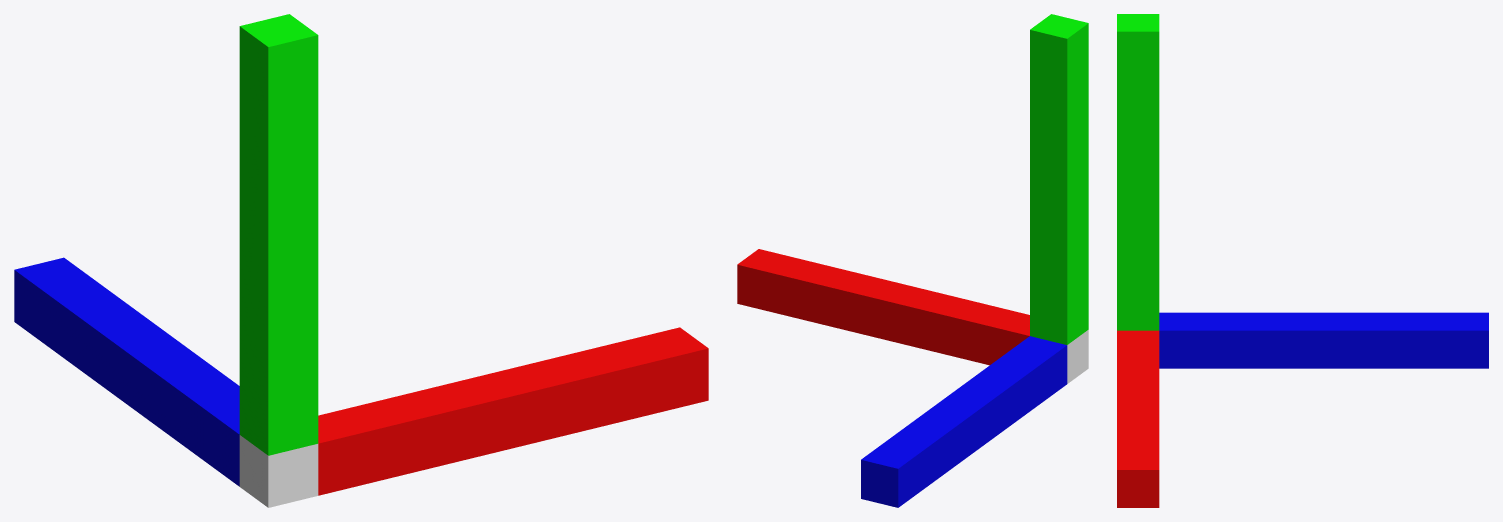
The model's file is Axis.fbx.
The picture shows the model from 3 angles, left to right: view 1: azimuth 30°, elevation 25°; view 2: azimuth 150°, elevation 25°; view 3: azimuth 270°, elevation 25°; orthographic projection. The views are drawn at different scales.
Visible parts, largest first — view 1: Cube; view 2: Cube; view 3: Cube.
Boxes of the visible parts, <box> form: Cube: <box>14,14,708,507</box>; Cube: <box>737,14,1088,507</box>; Cube: <box>1117,14,1488,507</box>.
Bounding box in the file's own units: 53 × 53 × 53.
